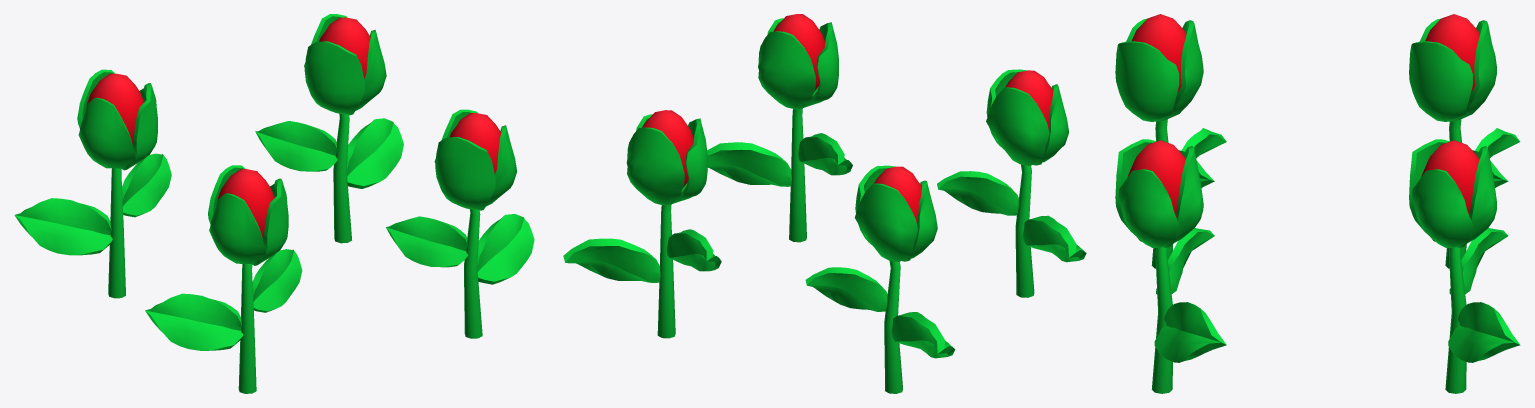
File: Farm_Crop_Tulip_01_Step_02.fbx
3 views of the same model, side by side, from view 1: azimuth 30°, elevation 25°; view 2: azimuth 150°, elevation 25°; view 3: azimuth 270°, elevation 25° (orthographic). The views are drawn at different scales.
Parts seen in each view (by area): view 1: Farm_Crop_Tulip_01_Step_02; view 2: Farm_Crop_Tulip_01_Step_02; view 3: Farm_Crop_Tulip_01_Step_02.
Boxes of the visible parts, x1,y1,x2,y2 form: Farm_Crop_Tulip_01_Step_02: [14, 14, 534, 393]; Farm_Crop_Tulip_01_Step_02: [563, 14, 1086, 393]; Farm_Crop_Tulip_01_Step_02: [1115, 14, 1520, 393].
Size of the model in its own units: 168 by 93.89 by 138.
